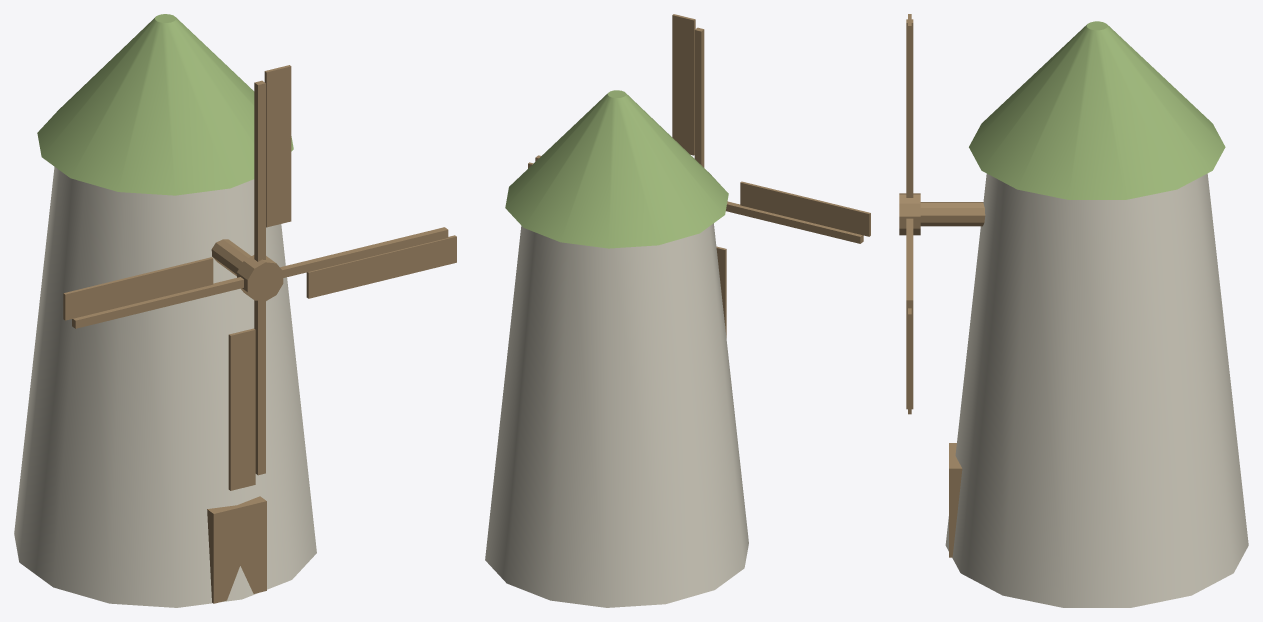
Rendered from windmill.glb.
The picture shows the model from 3 angles, left to right: view 1: azimuth 30°, elevation 25°; view 2: azimuth 150°, elevation 25°; view 3: azimuth 270°, elevation 25°; orthographic projection. The views are drawn at different scales.
Parts seen in each view (by area): view 1: tower, roof, rotor, door, axle; view 2: tower, roof, rotor; view 3: tower, roof, rotor, axle, door.
Part boxes in pixels (x1,y1,x2,y2): tower: (14,166,316,607); roof: (37,14,293,195); rotor: (63,65,456,490); door: (207,496,266,603); axle: (211,239,251,276); tower: (485,223,748,607); roof: (505,90,728,248); rotor: (528,14,870,337); tower: (945,173,1248,607); roof: (969,21,1225,199); rotor: (899,14,920,414); axle: (920,202,985,226); door: (949,443,962,557).
Bounding box in the file's own units: 2.51 × 3.3 × 1.96.
